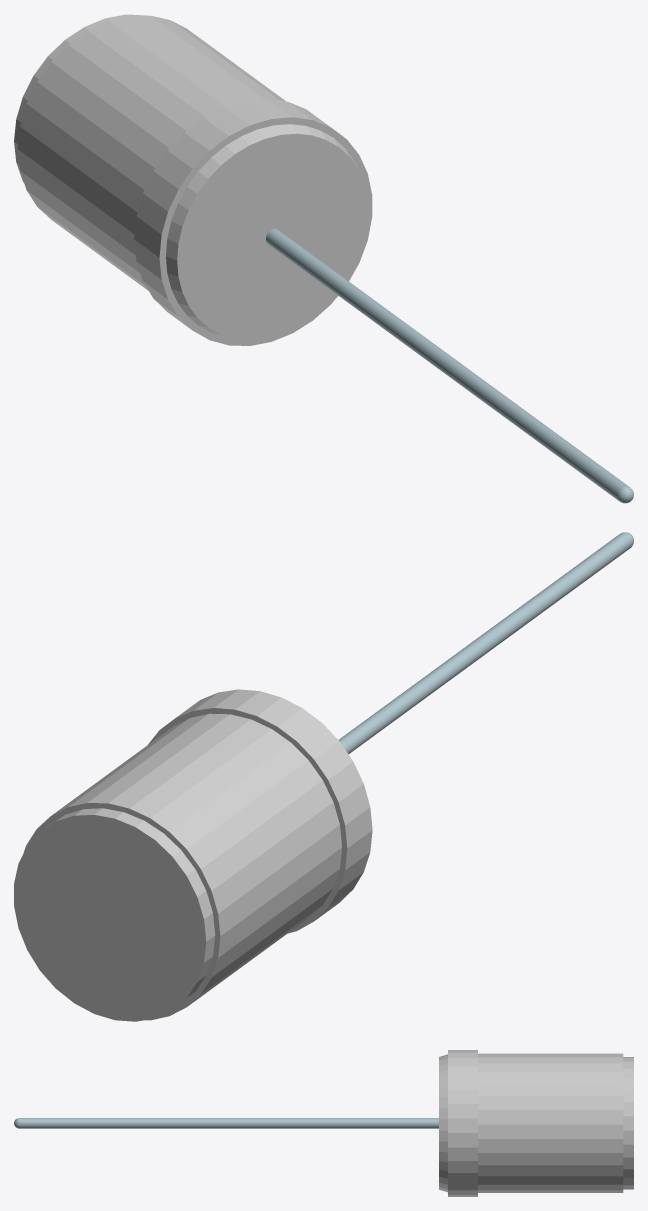
Rendered from cup.obj.
3 renders of one model, top to bottom at view 1: azimuth 30°, elevation 25°; view 2: azimuth 150°, elevation 25°; view 3: azimuth 270°, elevation 25°, orthographic. The views are drawn at different scales.
Visible parts, largest first — view 1: b_cup_body_straight_001_, b_cup_lid_001_, b_cup_termometer_001_; view 2: b_cup_body_straight_001_, b_cup_termometer_001_; view 3: b_cup_body_straight_001_, b_cup_termometer_001_, b_cup_lid_001_.
Part boxes in pixels (x1=…): b_cup_body_straight_001_: x1=14, y1=14, x2=372, y2=345; b_cup_lid_001_: x1=166, y1=124, x2=369, y2=340; b_cup_termometer_001_: x1=266, y1=229, x2=633, y2=503; b_cup_body_straight_001_: x1=14, y1=689, x2=372, y2=1021; b_cup_termometer_001_: x1=339, y1=532, x2=633, y2=753; b_cup_body_straight_001_: x1=448, y1=1050, x2=633, y2=1196; b_cup_termometer_001_: x1=14, y1=1118, x2=438, y2=1128; b_cup_lid_001_: x1=439, y1=1054, x2=447, y2=1192.
Bounding box in the file's own units: 82.79 × 82.89 × 350.
